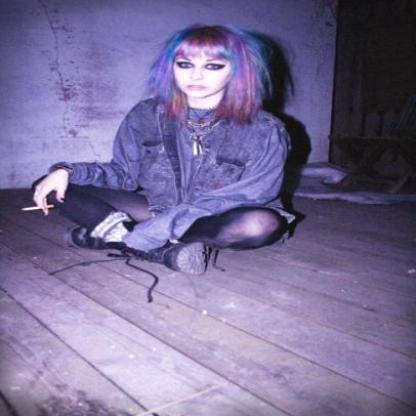cigarette: (20, 204, 57, 212)
person: (44, 23, 310, 264)
